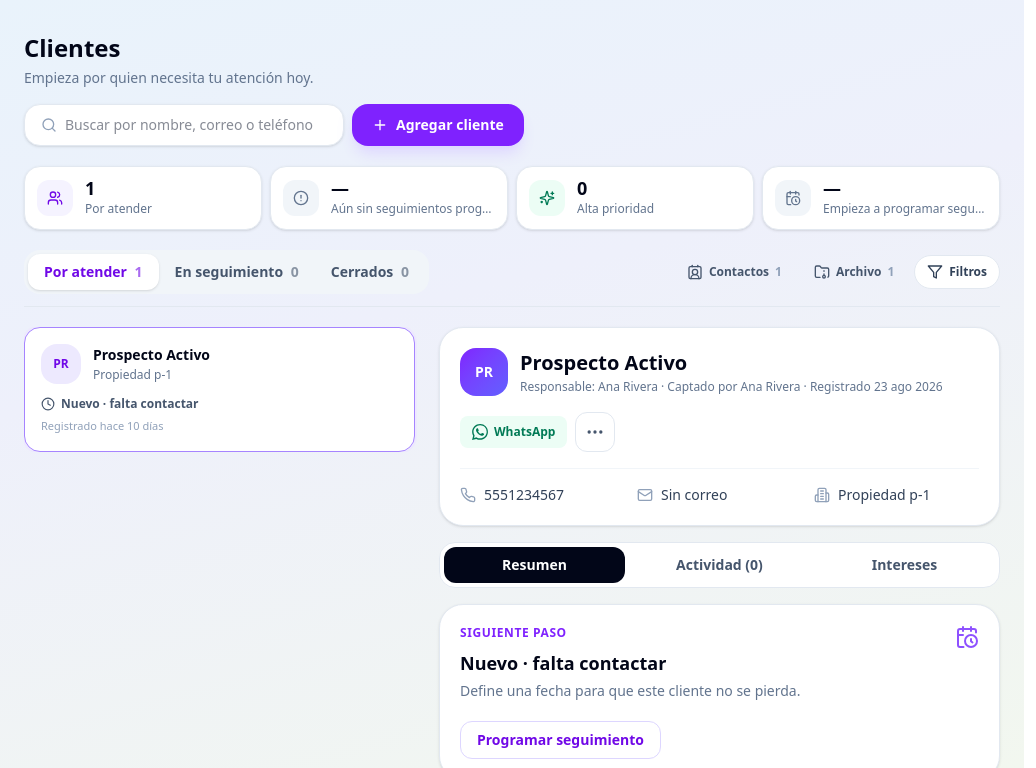
Scenario: Clientes: navegación por tipo de relación › Contactos muestra solo la agenda importada del CRM
Click the button "Contactos 1".
click(734, 272)  # box [675, 256, 794, 288]
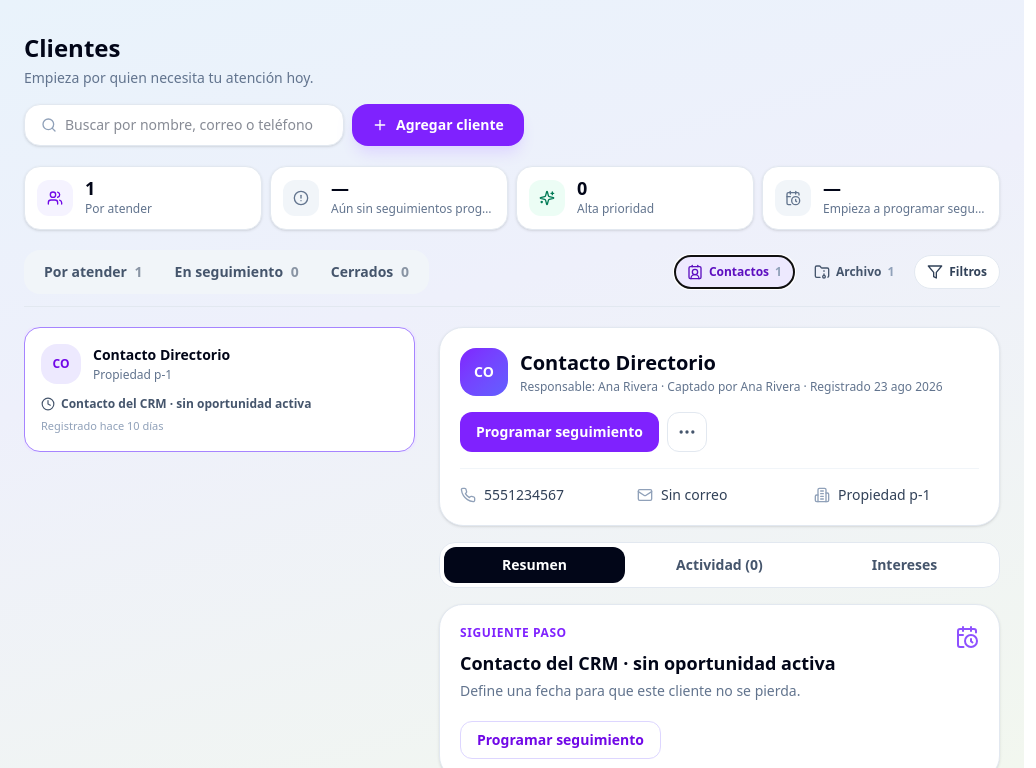
Now the text "Contacto Directorio" is shown, box [93, 345, 230, 365]
Now no buttons "Prospecto Activo" are shown
